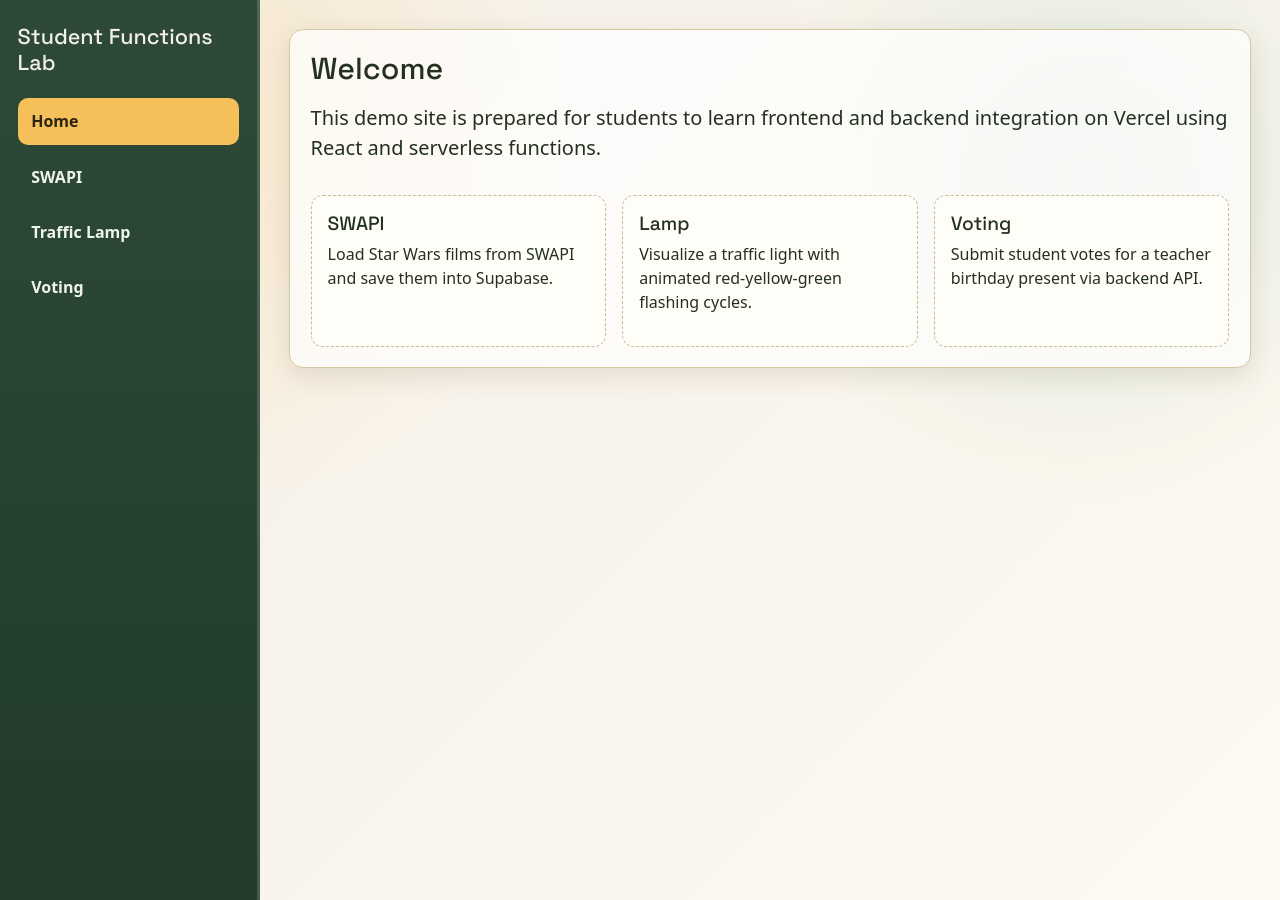
it: frontend routing and click behavior › navigates to Voting page and exposes form controls
// test clicks on Voting link
What coordinates should you click on to do the following:
click the link "Voting"
I would click on:
 (57, 287)
Its box is [31, 276, 84, 298].
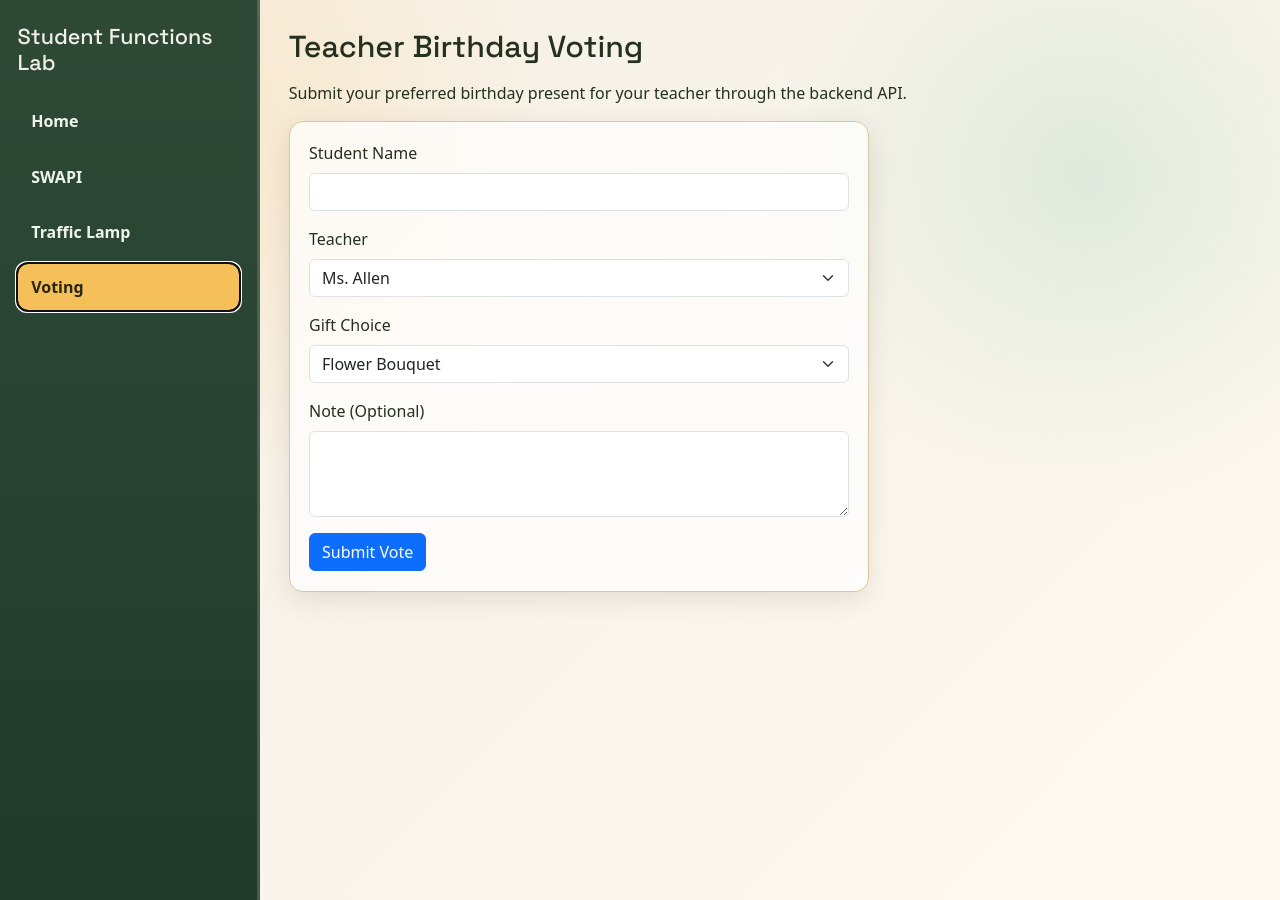
Now the heading "Teacher Birthday Voting" is shown, box [289, 27, 643, 66]
Now the field labelled "Student Name" is shown, box [309, 174, 849, 212]
Now the dropdown labelled "Teacher" is shown, box [309, 260, 849, 298]
